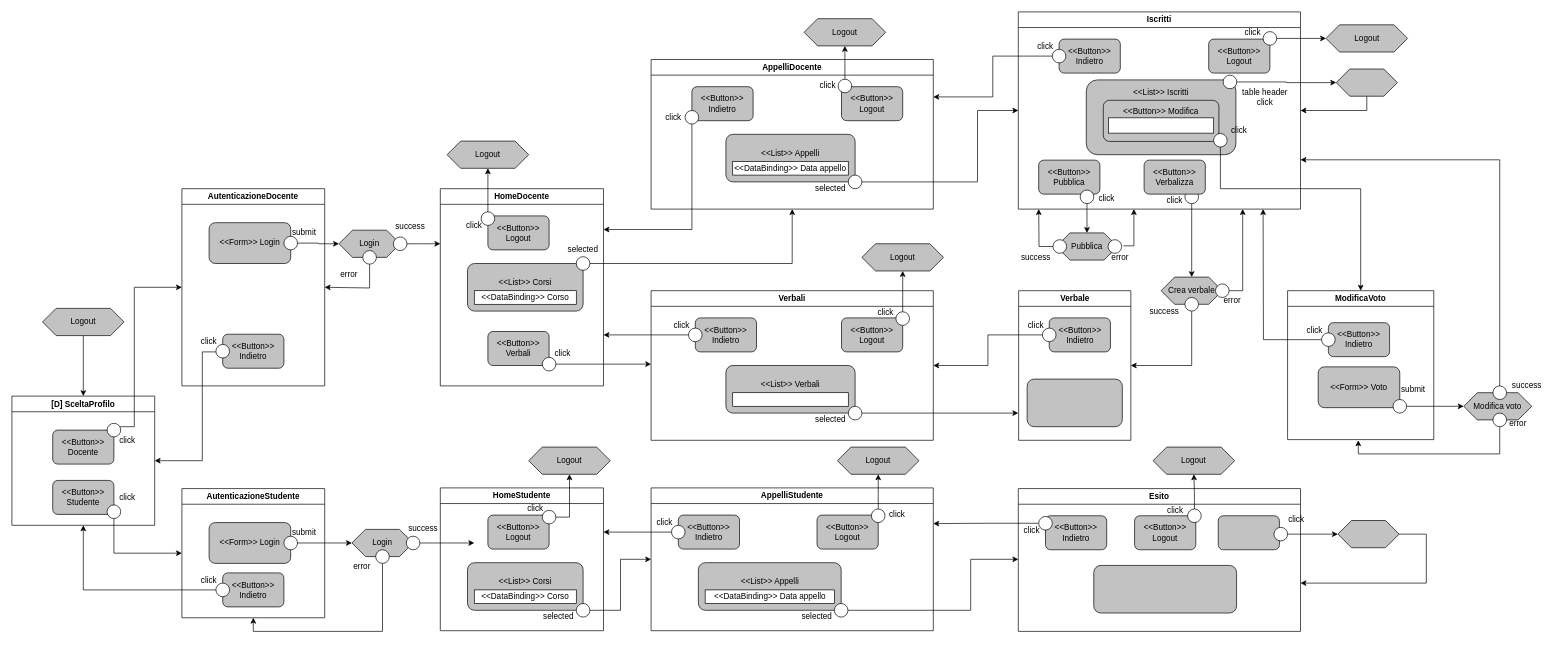
The diagram is 1559 pixels wide and 649 high, and some of its shapes have lost their labels. The centre of each missing label's shape, as x and y in pixels:
"<<Button>> Rifiuta" belongs at pixel 1248 532.
"<<DataBinding>> Cod verbale" belongs at pixel 790 399.
"<<DataBinding>> Studente" belongs at pixel 1161 125.
"<<Form>> Dati esame" belongs at pixel 1165 589.
"<<Form>> Verbale" belongs at pixel 1074 402.
"Rifuta voto" belongs at pixel 1368 534.
"Riordina" belongs at pixel 1366 82.
